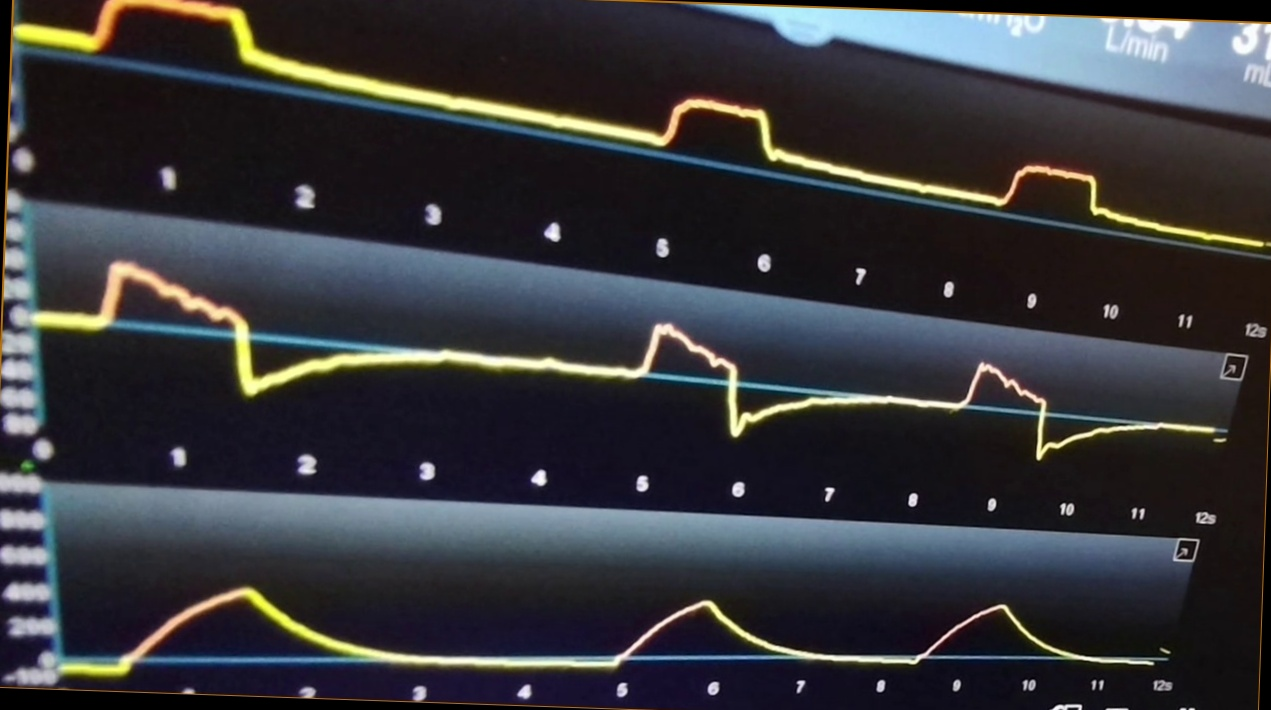Accumulation Flow: (43, 257, 1199, 465)
Volume: (65, 572, 1154, 681)
